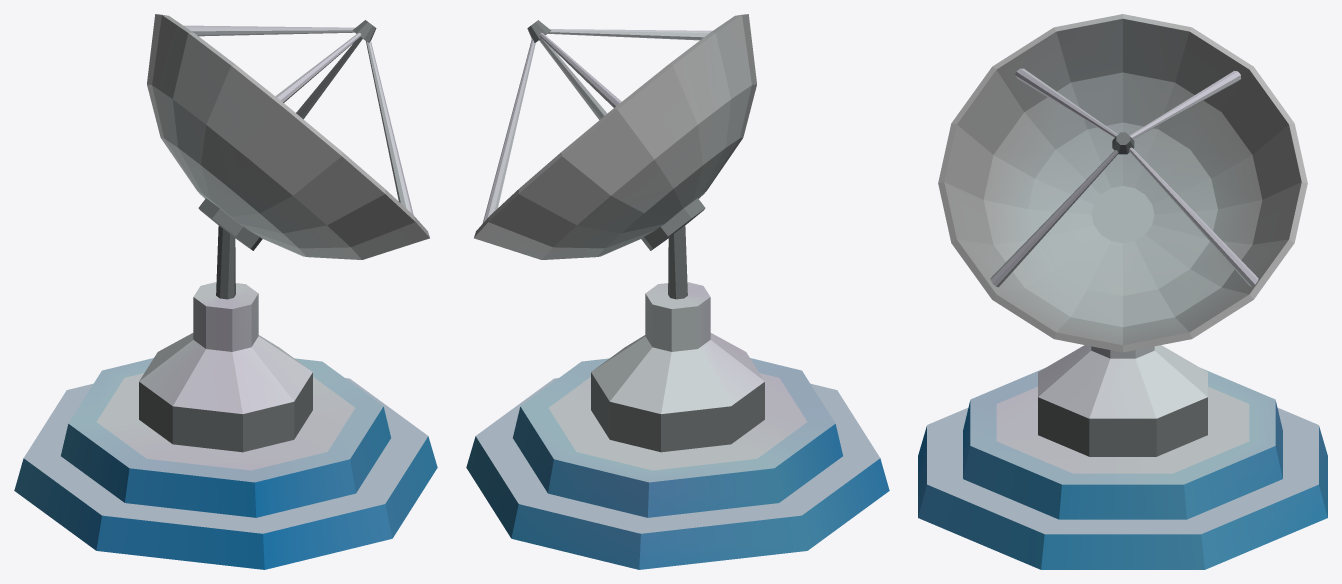
File: antena.glb
The picture shows the model from 3 angles, left to right: view 1: azimuth 30°, elevation 25°; view 2: azimuth 150°, elevation 25°; view 3: azimuth 270°, elevation 25°; orthographic projection.
Visible parts, largest first — view 1: antena; view 2: antena; view 3: antena.
Part boxes in pixels (x1,y1,x2,y2): antena: [14, 14, 437, 569]; antena: [466, 14, 889, 569]; antena: [918, 14, 1327, 569].
Bounding box in the file's own units: 4.18 × 5.32 × 4.35.
